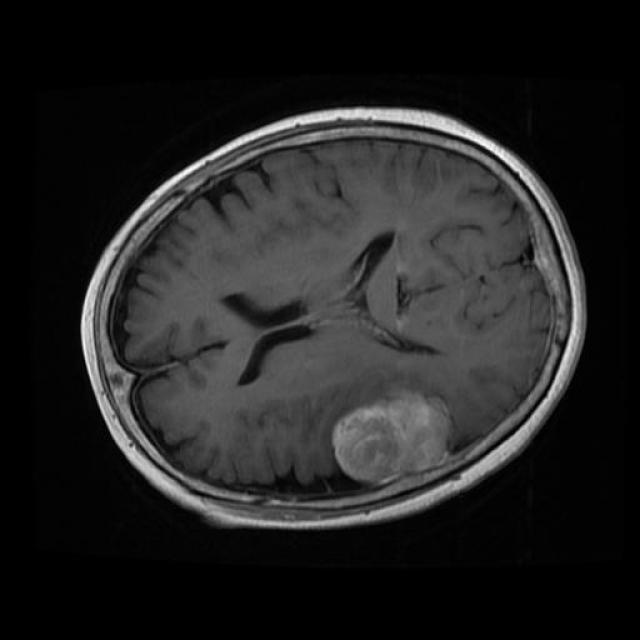Meningioma: (332, 389, 451, 485)
